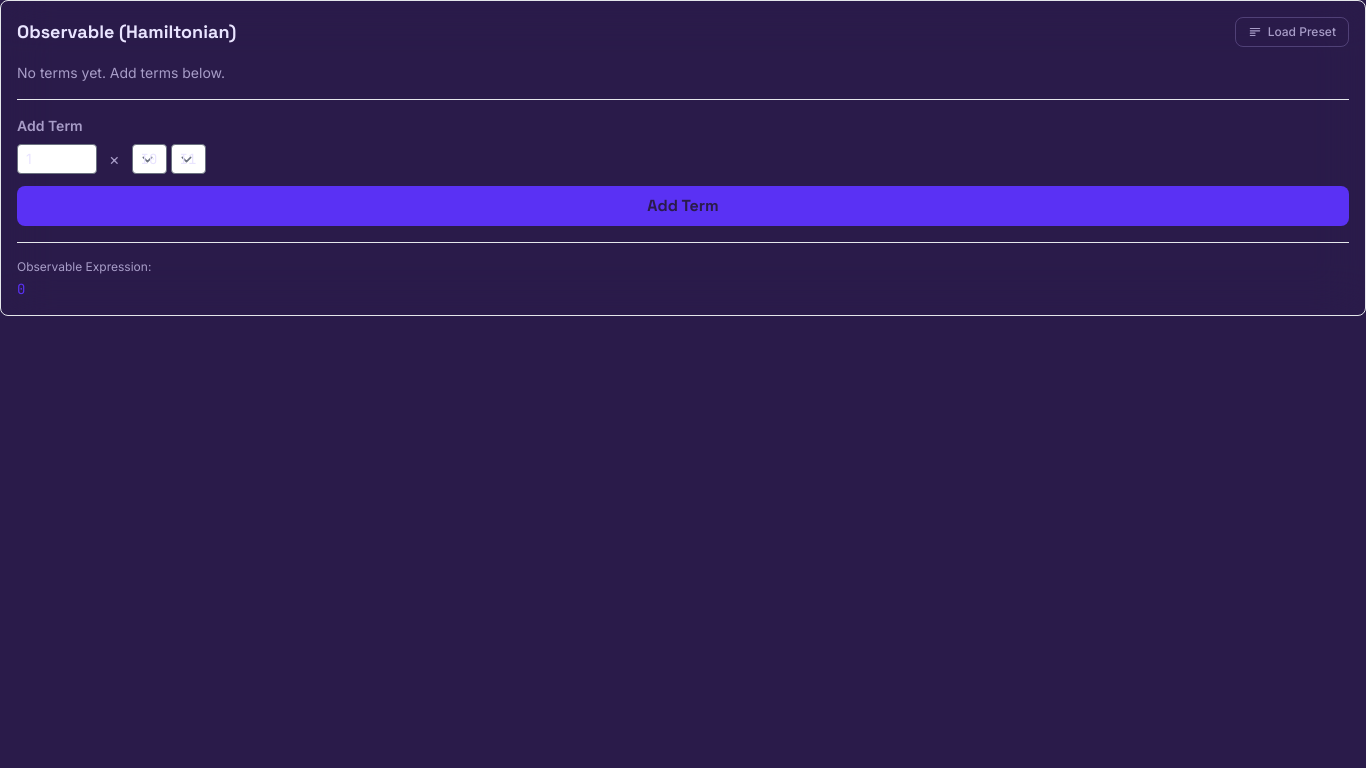
Test: ObservableBuilder preset integration › opens preset modal on Load Preset click
The image size is (1366, 768).
Click the button "Load Preset" at (1292, 32), box [1235, 17, 1349, 47]
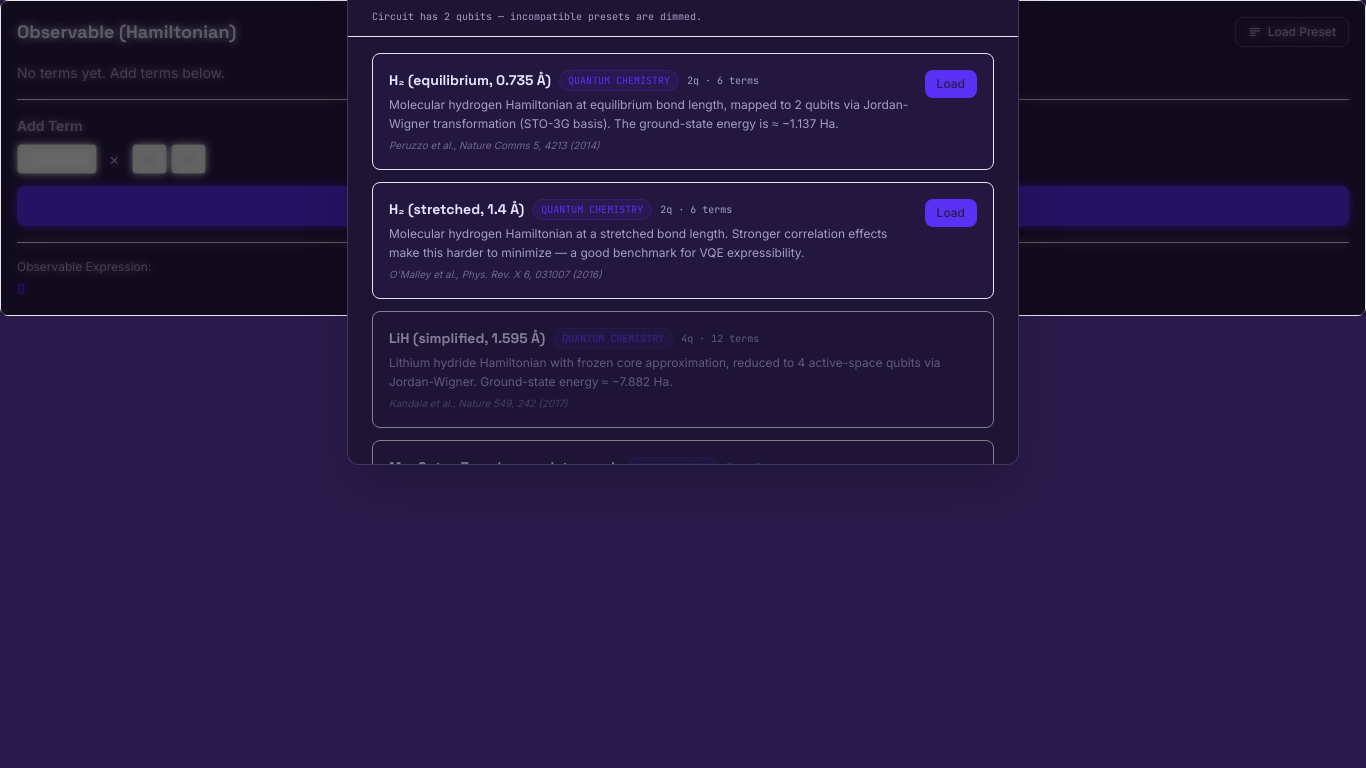
Result: the dialog is shown at [1, 1, 1365, 315]
